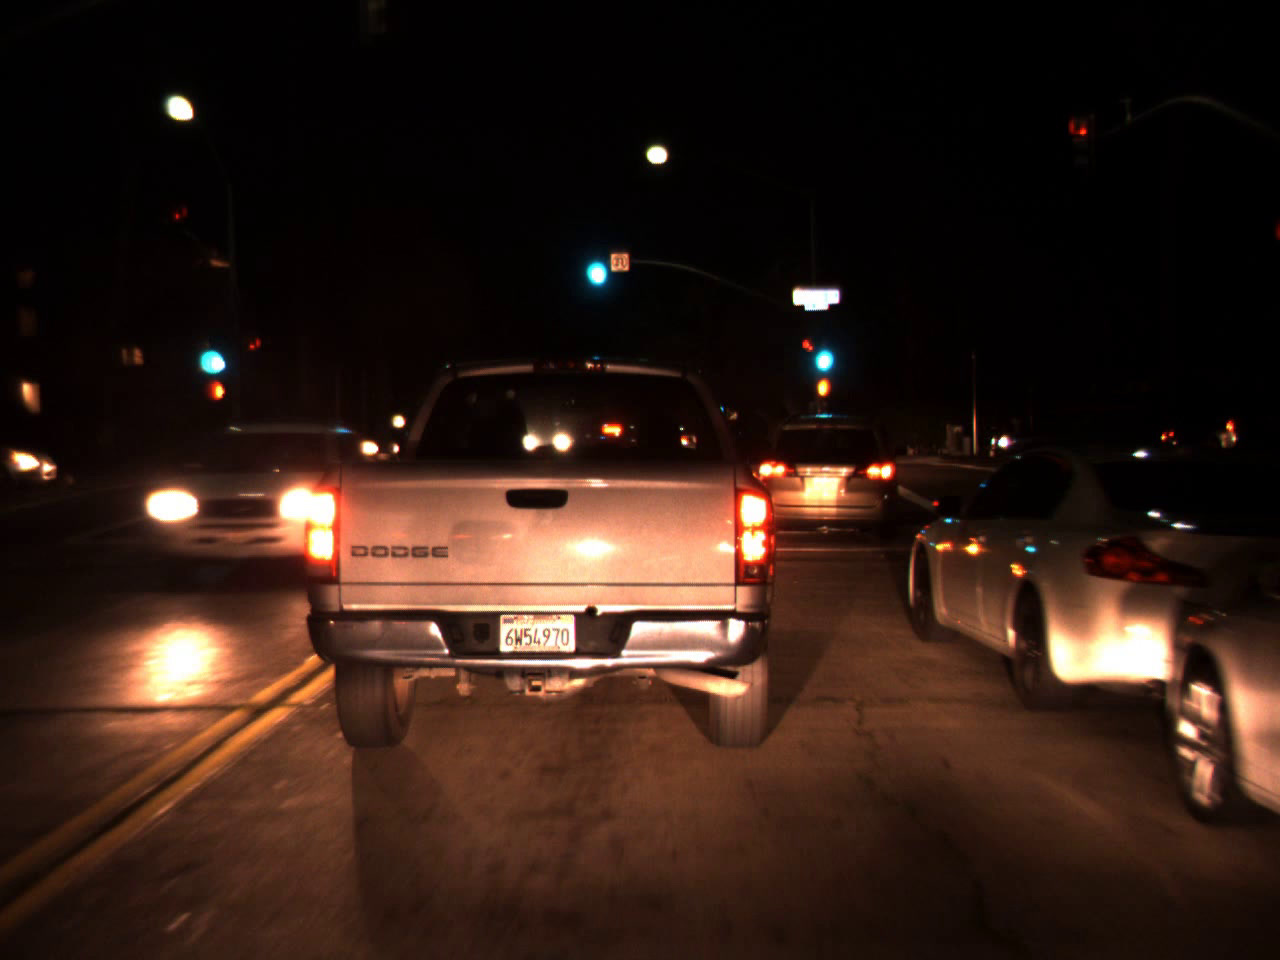go: (579, 231, 611, 294), (191, 325, 228, 379), (807, 321, 837, 381)
